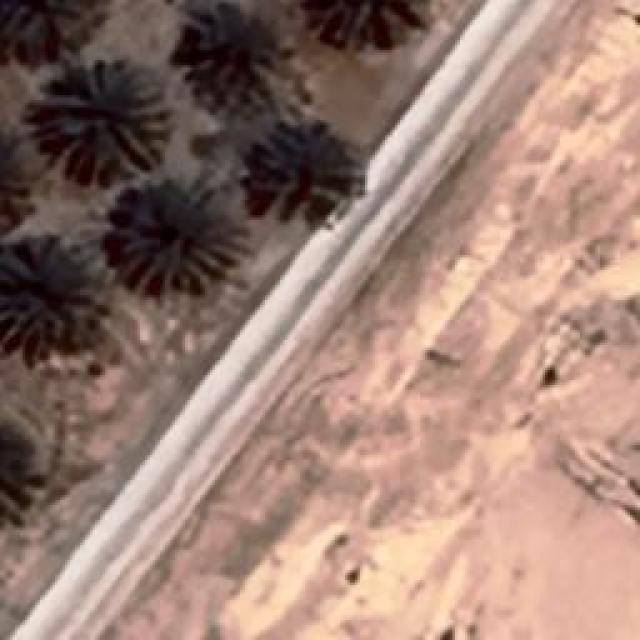PalmTree: (15, 33, 108, 472), (110, 178, 248, 292), (45, 60, 170, 185), (180, 12, 298, 120), (245, 112, 360, 222), (0, 235, 102, 355), (310, 0, 432, 48), (0, 126, 29, 235), (0, 123, 19, 232)
